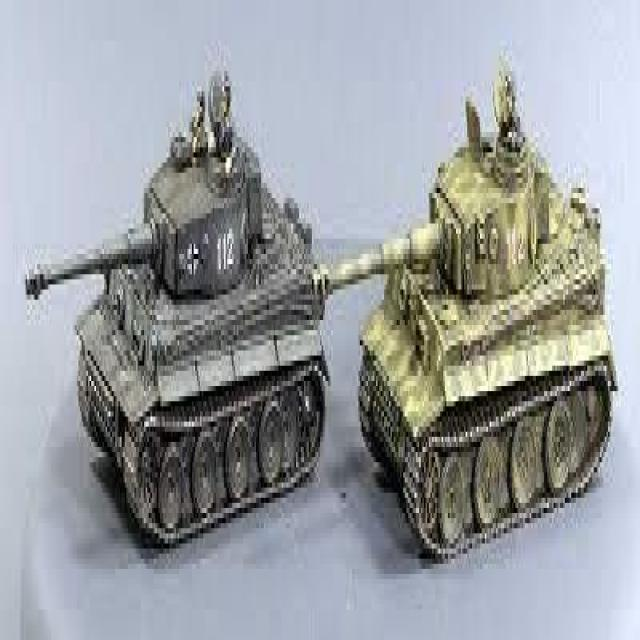Tanks: (330, 101, 630, 558), (24, 104, 331, 541)
